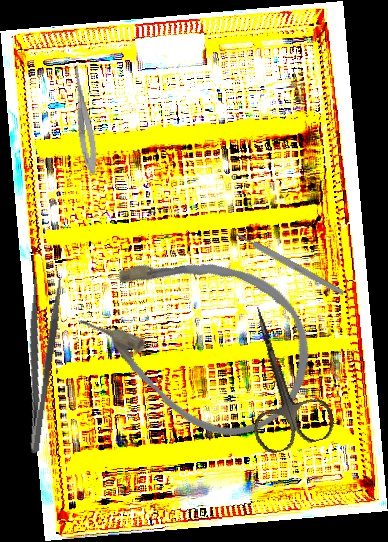Cannula: (59, 214, 336, 460)
Dressing Forceps: (12, 274, 64, 456)
Iris Scissors: (220, 295, 339, 458)
Micro Scissor: (65, 61, 102, 177)
Scalpel Handle: (234, 230, 345, 297)
